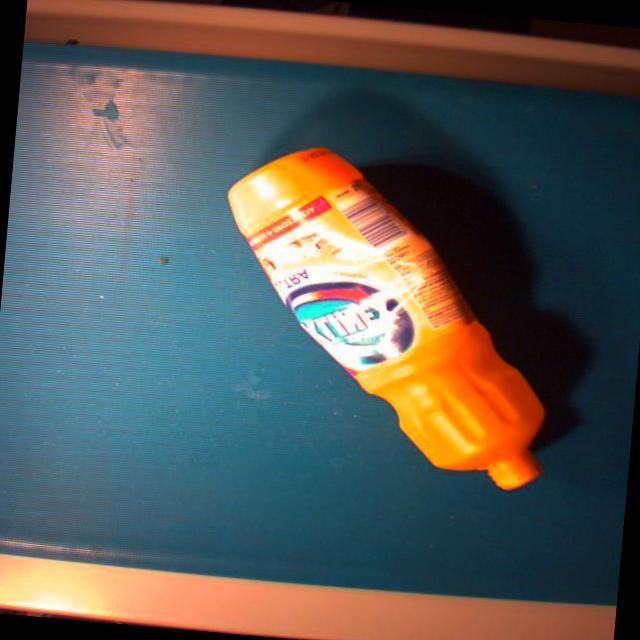HDPE Plastic: (222, 140, 551, 494)
